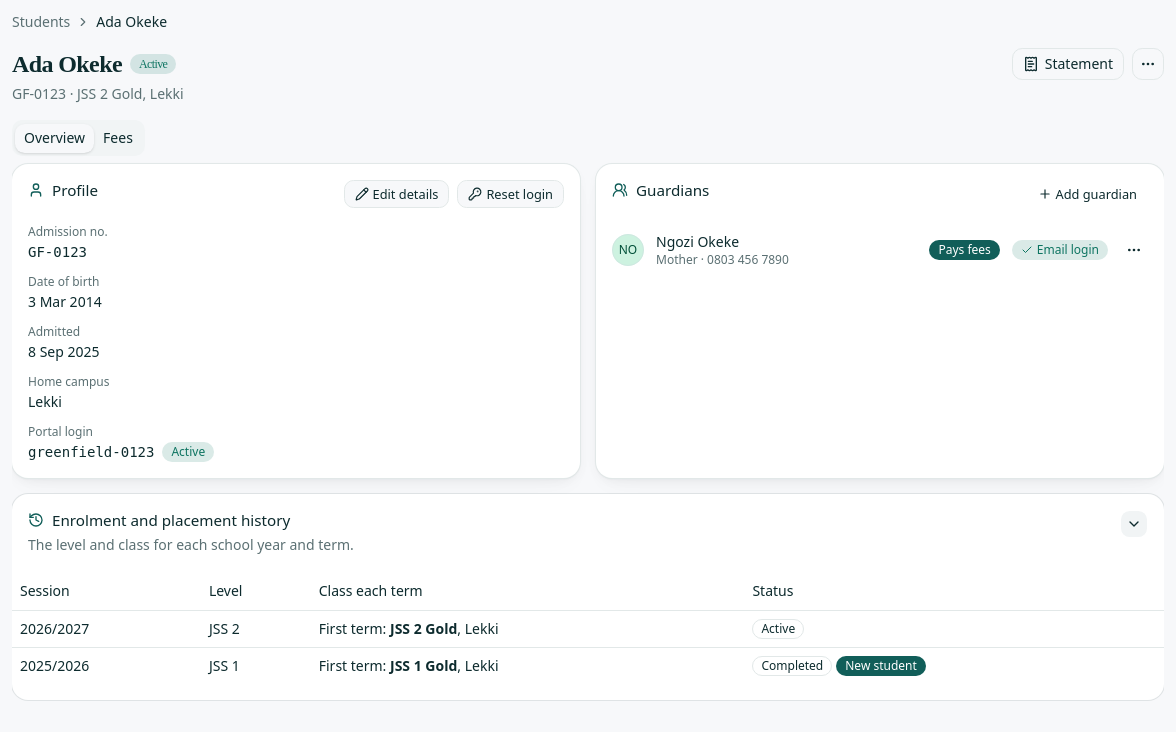
StudentPage Fees tab › shows Owing ₦0.00 for a zero balance
The width and height of the screenshot is (1176, 732).
Click the tab "Fees" at coordinates (118, 138), box left=94, top=124, right=142, bottom=152
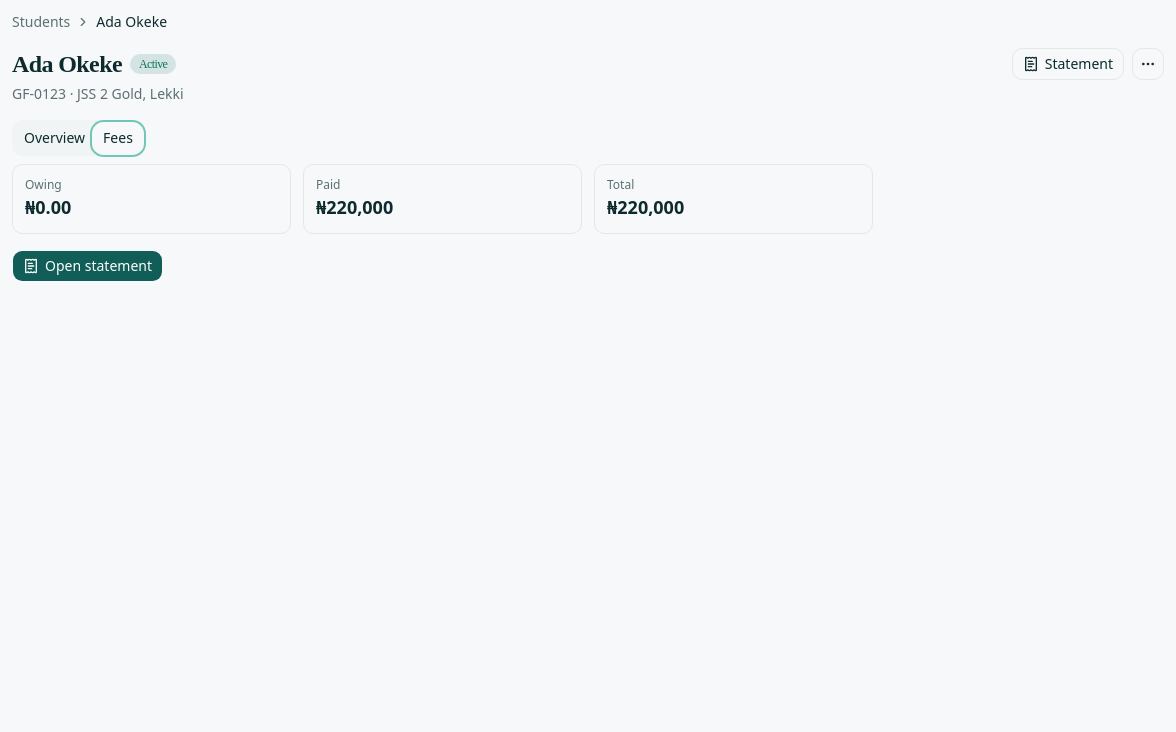
Expected: the text "Owing" is shown, left=25, top=176, right=62, bottom=193
Expected: the text "₦0.00" is shown, left=25, top=195, right=71, bottom=219
